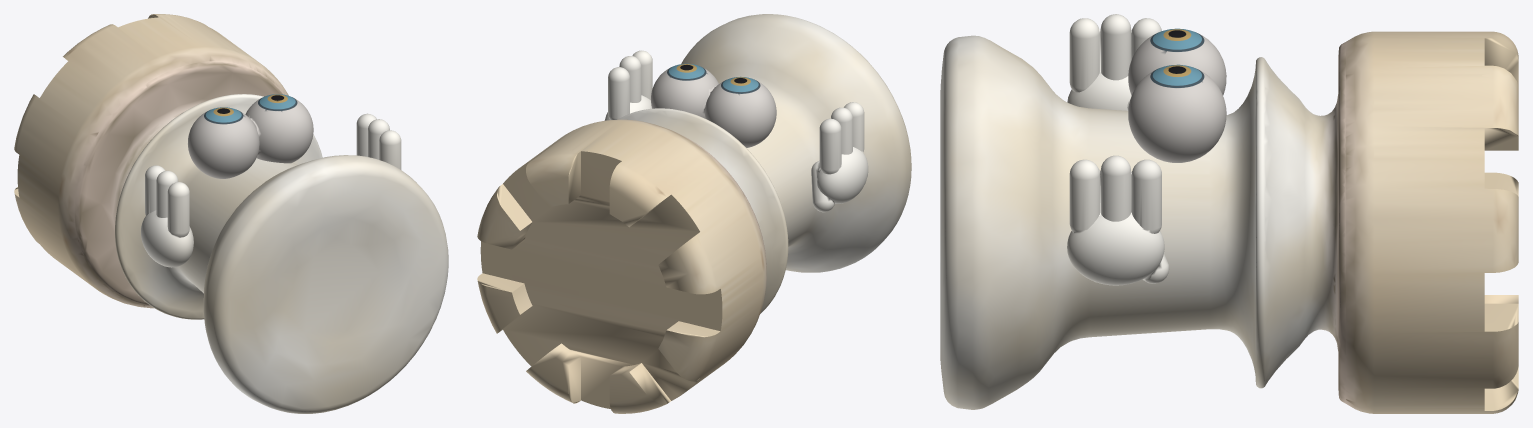
File: rook-light-fallen.glb
3 renders of one model, left to right at view 1: azimuth 30°, elevation 25°; view 2: azimuth 150°, elevation 25°; view 3: azimuth 270°, elevation 25°, orthographic. The views are drawn at different scales.
Parts seen in each view (by area): view 1: body, eye, hand.1, hand.0; view 2: body, eye, hand.1, hand.0; view 3: body, hand.0, eye, hand.1.
Boxes of the visible parts, bbox=[...] form: body: bbox=[14, 14, 448, 413]; eye: bbox=[188, 94, 313, 178]; hand.1: bbox=[141, 165, 193, 267]; hand.0: bbox=[356, 113, 401, 169]; body: bbox=[477, 14, 911, 413]; eye: bbox=[651, 63, 776, 147]; hand.1: bbox=[811, 102, 868, 212]; hand.0: bbox=[604, 50, 652, 120]; body: bbox=[940, 31, 1518, 413]; hand.0: bbox=[1067, 155, 1169, 285]; eye: bbox=[1128, 28, 1226, 162]; hand.1: bbox=[1067, 14, 1161, 110].
Size of the model in its own units: 2.32 by 2.24 by 3.39.
